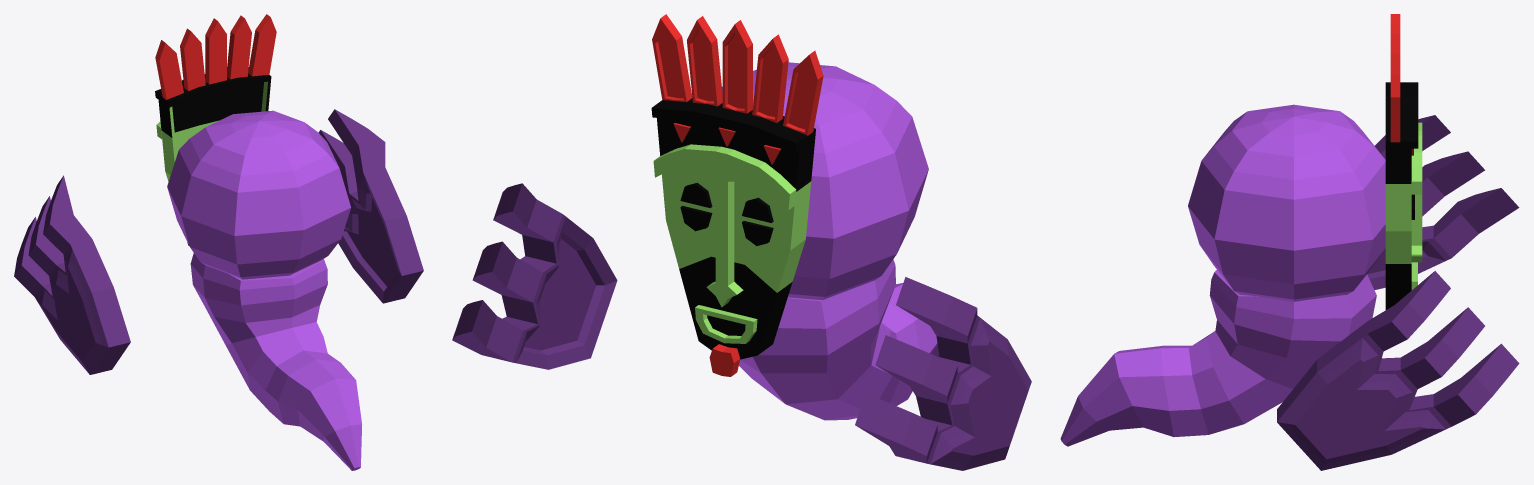
The model's file is MediumGhost.fbx.
The picture shows the model from 3 angles, left to right: view 1: azimuth 30°, elevation 25°; view 2: azimuth 150°, elevation 25°; view 3: azimuth 270°, elevation 25°; orthographic projection. The views are drawn at different scales.
Parts seen in each view (by area): view 1: Ghost_Head.001, Ghost_Tail.001, GHost_Claw_L.001, Ghost_Mask_Medium_Base, Ghost_Claw_R.001; view 2: Ghost_Mask_Medium_Base, Ghost_Head.001, GHost_Claw_L.001, Ghost_Claw_R.001, Ghost_Tail.001; view 3: Ghost_Head.001, Ghost_Tail.001, Ghost_Claw_R.001, Ghost_Mask_Medium_Base, GHost_Claw_L.001.
Boxes of the visible parts, x1,y1,x2,y2 form: Ghost_Head.001: (167, 110, 350, 279); Ghost_Tail.001: (190, 253, 361, 470); GHost_Claw_L.001: (14, 175, 130, 374); Ghost_Mask_Medium_Base: (155, 14, 276, 245); Ghost_Claw_R.001: (318, 109, 423, 303); Ghost_Mask_Medium_Base: (651, 14, 823, 376); Ghost_Head.001: (722, 62, 928, 300); GHost_Claw_L.001: (855, 277, 1031, 470); Ghost_Claw_R.001: (452, 183, 617, 369); Ghost_Tail.001: (739, 259, 939, 420); Ghost_Head.001: (1188, 104, 1385, 301); Ghost_Tail.001: (1060, 270, 1376, 446); Ghost_Claw_R.001: (1277, 271, 1519, 470); Ghost_Mask_Medium_Base: (1385, 14, 1422, 309); GHost_Claw_L.001: (1367, 115, 1519, 290).
Size of the model in its own units: 263 by 262 by 264.
